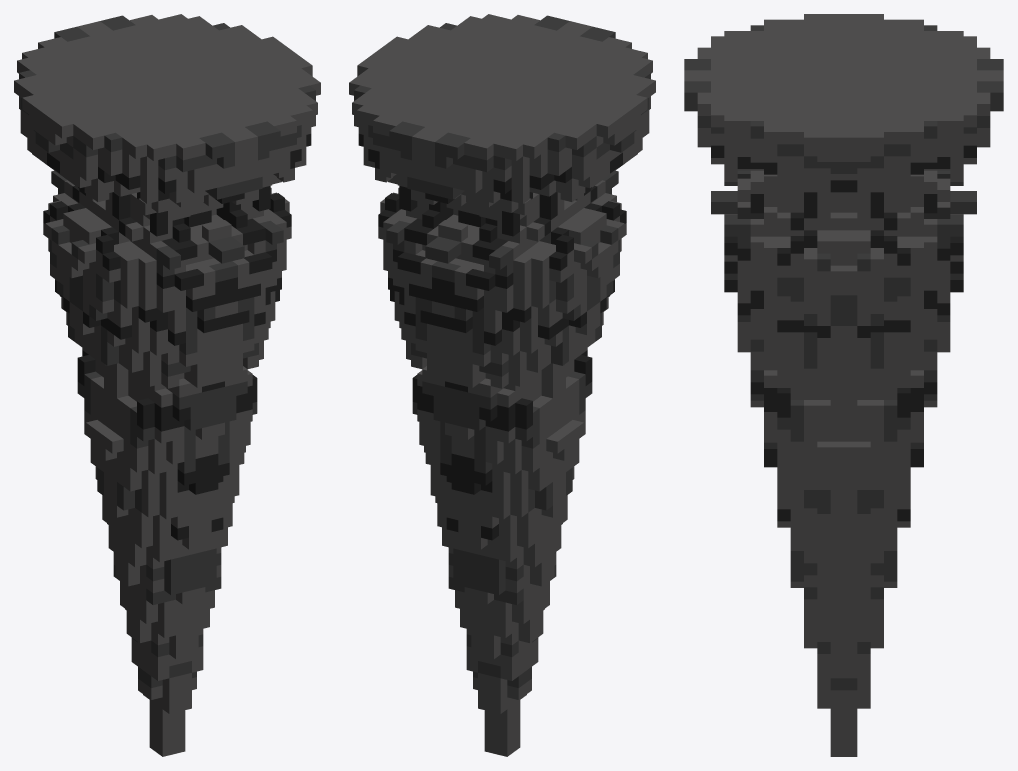
The model's file is stone top 2.obj.
3 views of the same model, side by side, from view 1: azimuth 30°, elevation 25°; view 2: azimuth 150°, elevation 25°; view 3: azimuth 270°, elevation 25° (orthographic).
Size of the model in its own units: 2.2 by 5.6 by 2.4.
Materials: 1 (1 with a texture image).
